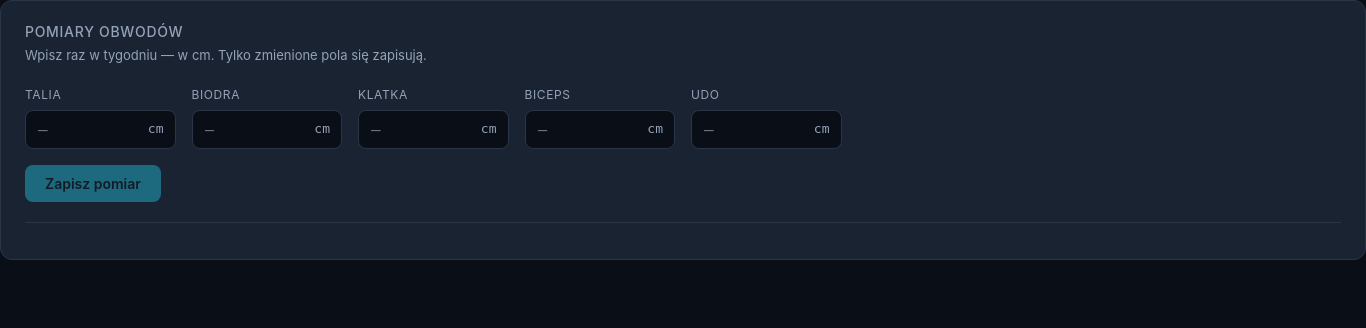
Test: BodyMeasurementsCard › 422 error → banner z PL message
This screenshot has width=1366, height=328.
In the number field labelled "Biceps": coordinates (600, 129) [524,110,675,148], type "35"
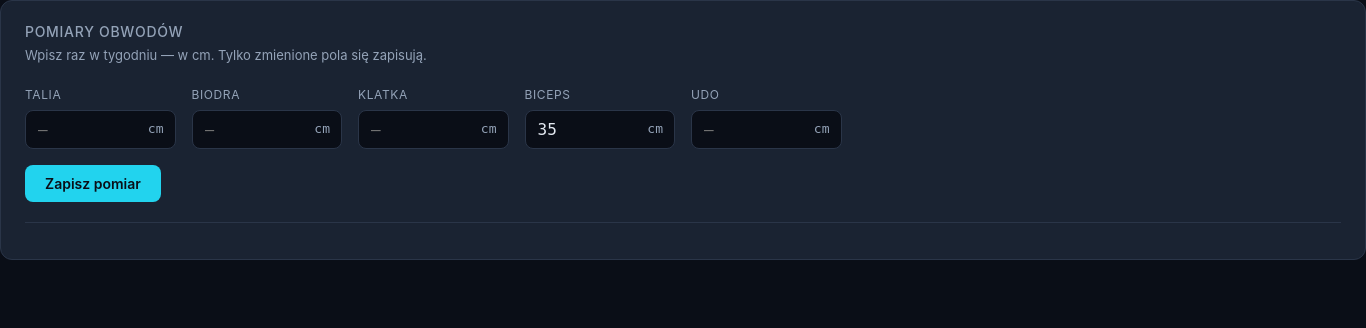
Click the button "Zapisz pomiar": coordinates (93, 183) [25,164,161,202]
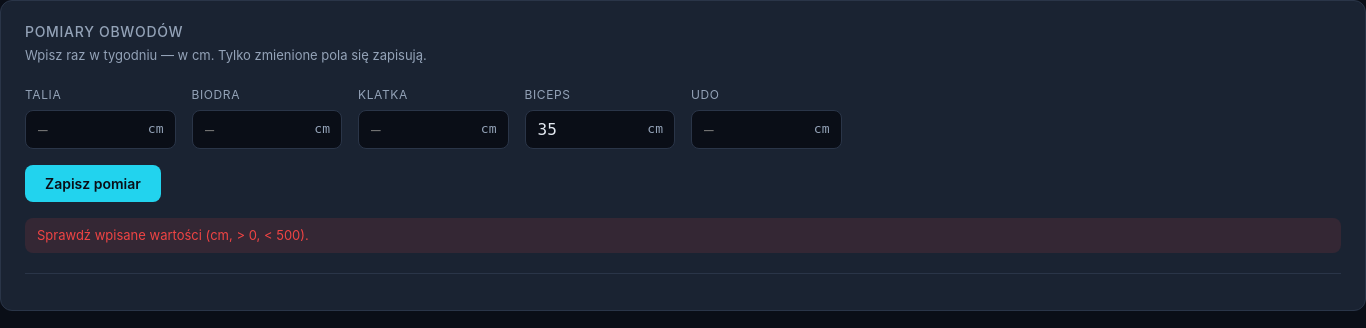
Result: the message shows "Sprawdź wpisane wartości" at [37,226,309,242]
